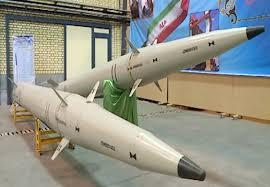ten_lua: (10, 83, 213, 180), (60, 35, 261, 80)
